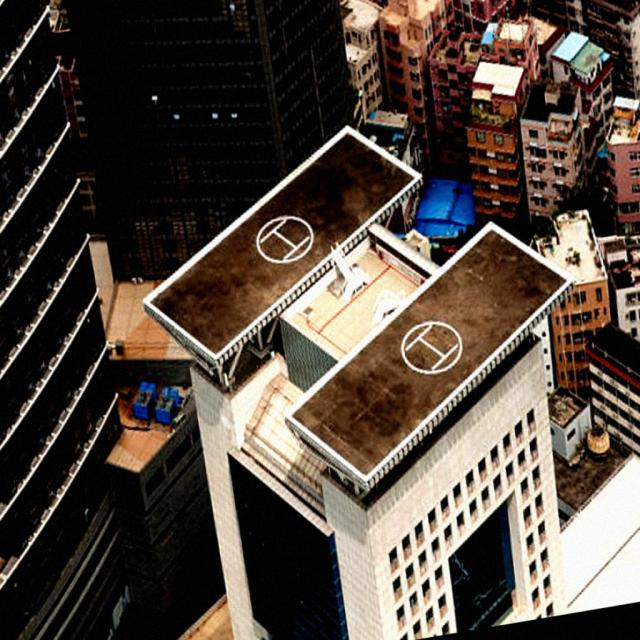helipad: (397, 320, 466, 378), (252, 212, 318, 266)
